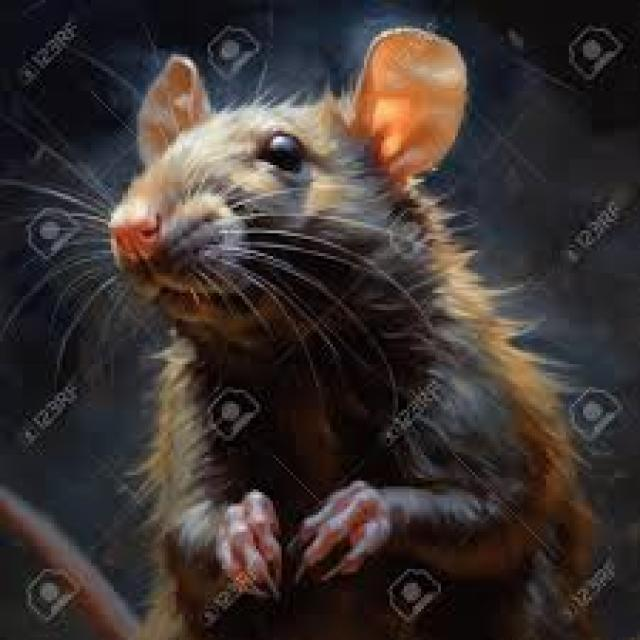Rat: (96, 26, 566, 640)
